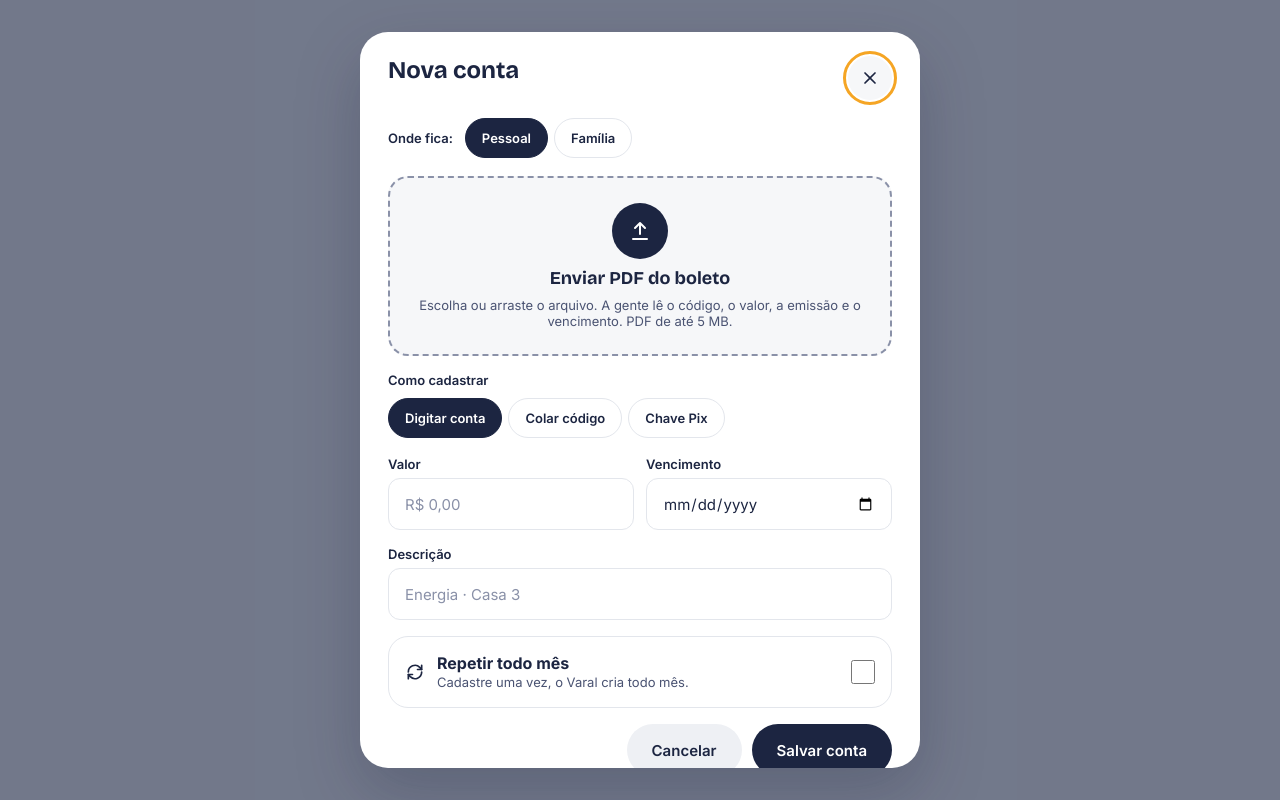
Test: q08-9: vencimento de outro mês conserva campos e não cria recorrência
In the field labelled "Descrição": (640, 594) top-left (405, 569), bottom-right (875, 619), type "Conta antiga"
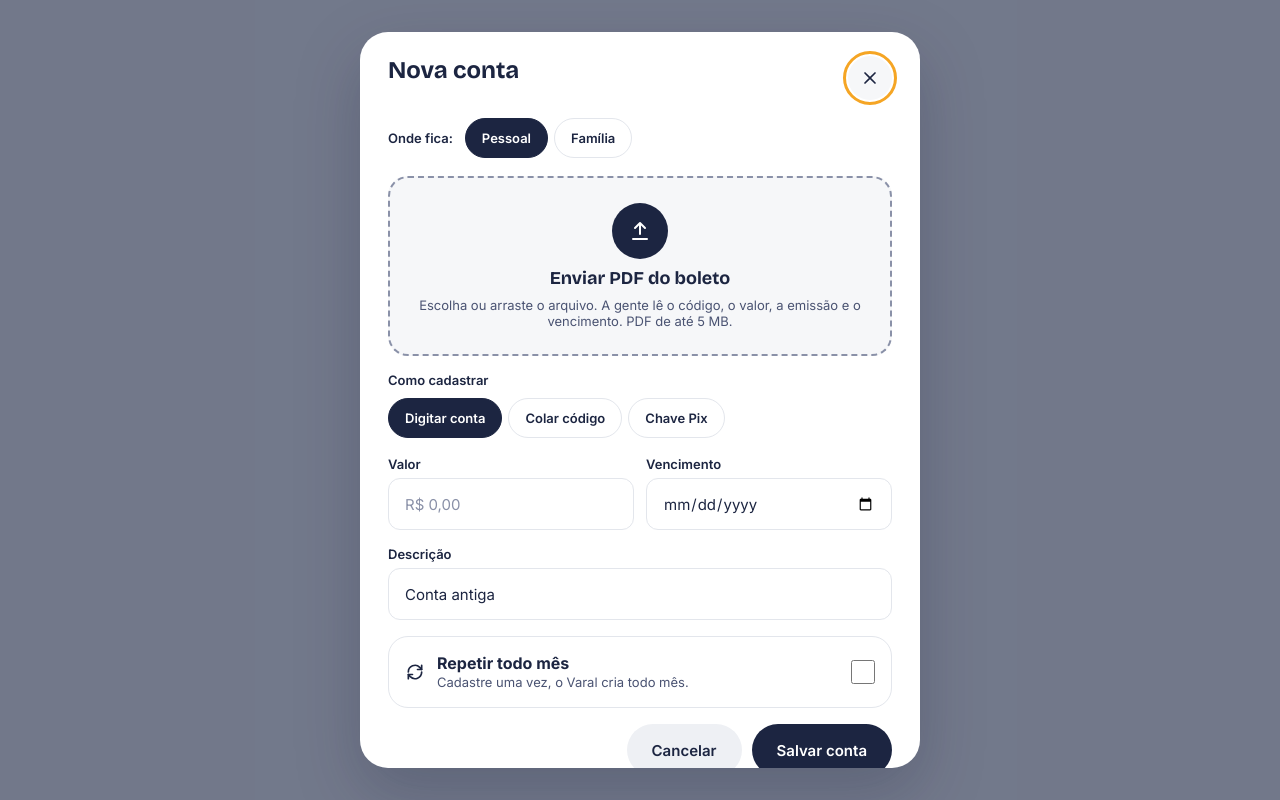
In the field labelled "Valor": (511, 504) top-left (405, 479), bottom-right (617, 529), type "42,00"
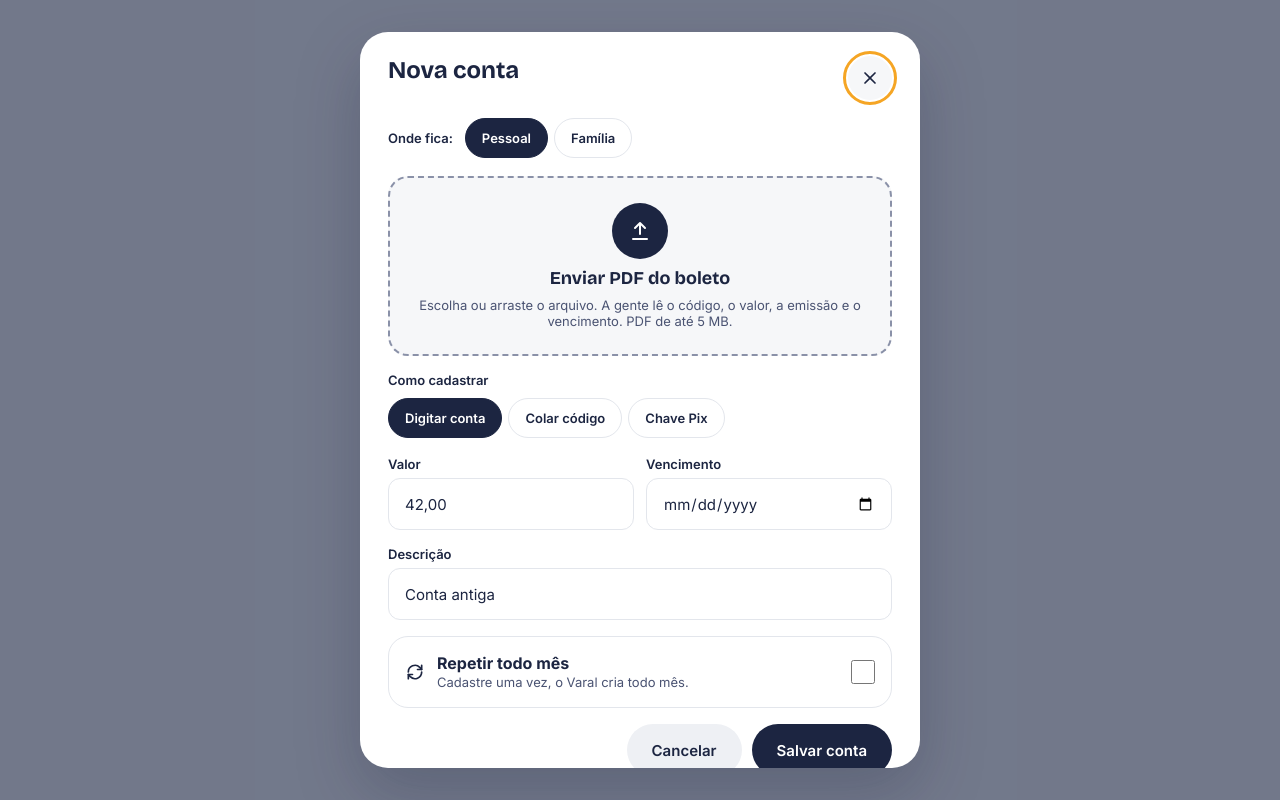
In the date field labelled "Vencimento": (769, 504) top-left (663, 479), bottom-right (875, 529), type "2020-01-14"
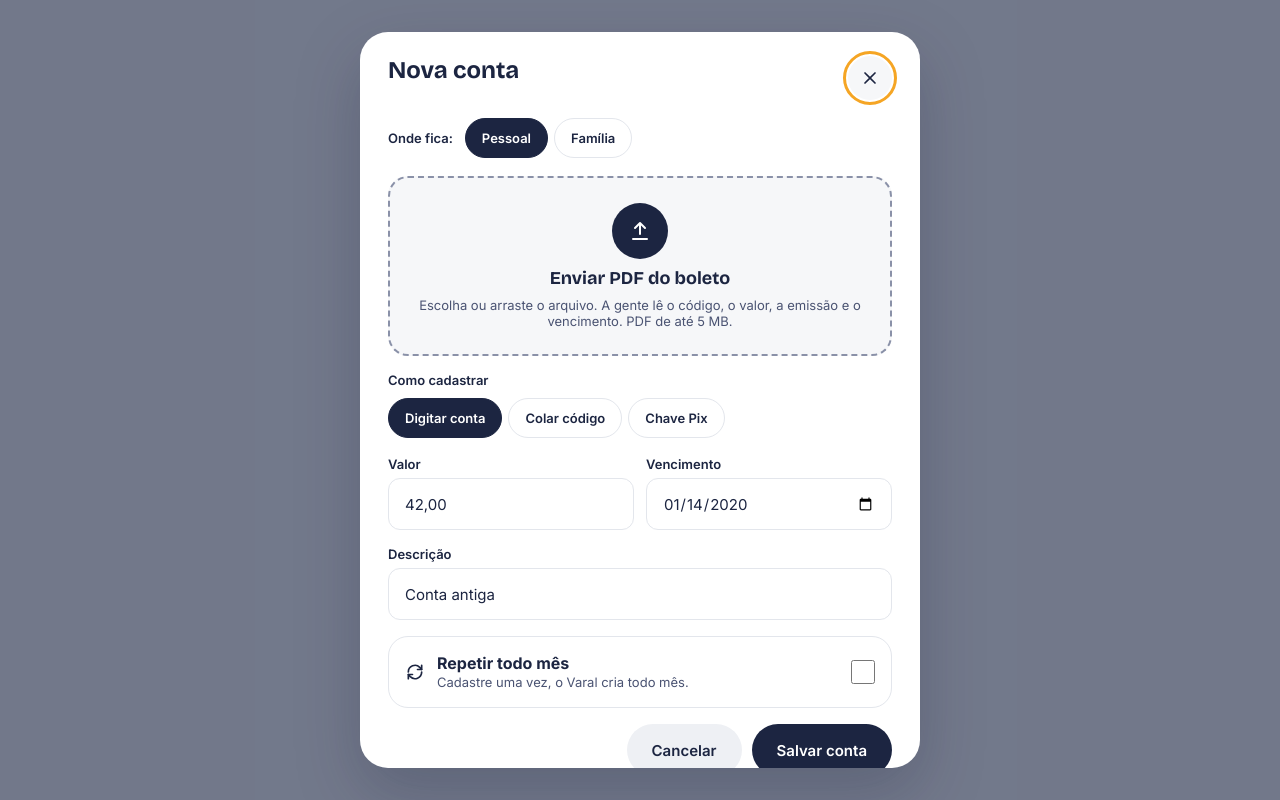
Click the checkbox labelled "Repetir todo mês Cadastre uma vez, o Varal cria todo mês.": (863, 672) top-left (851, 660), bottom-right (875, 684)
(page scrolled)
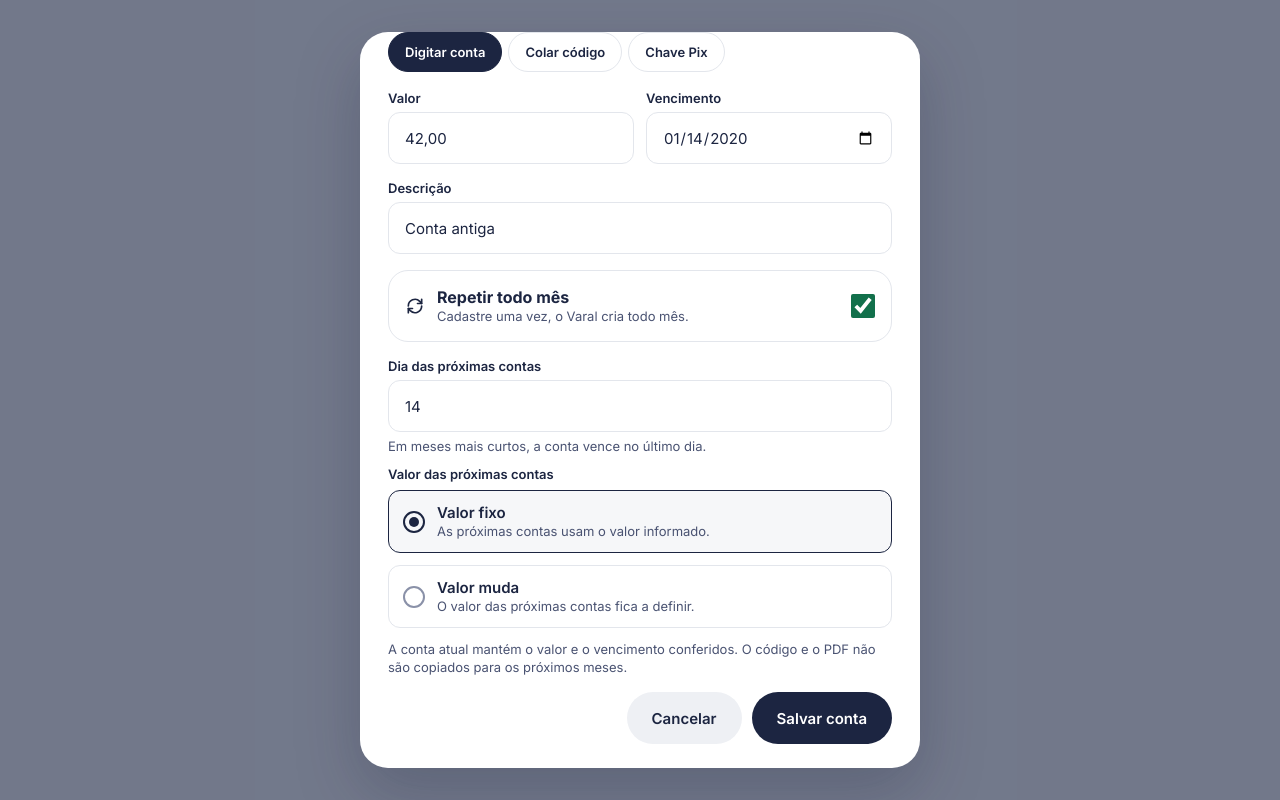
Click the button "Salvar conta": (822, 718) top-left (752, 692), bottom-right (892, 744)
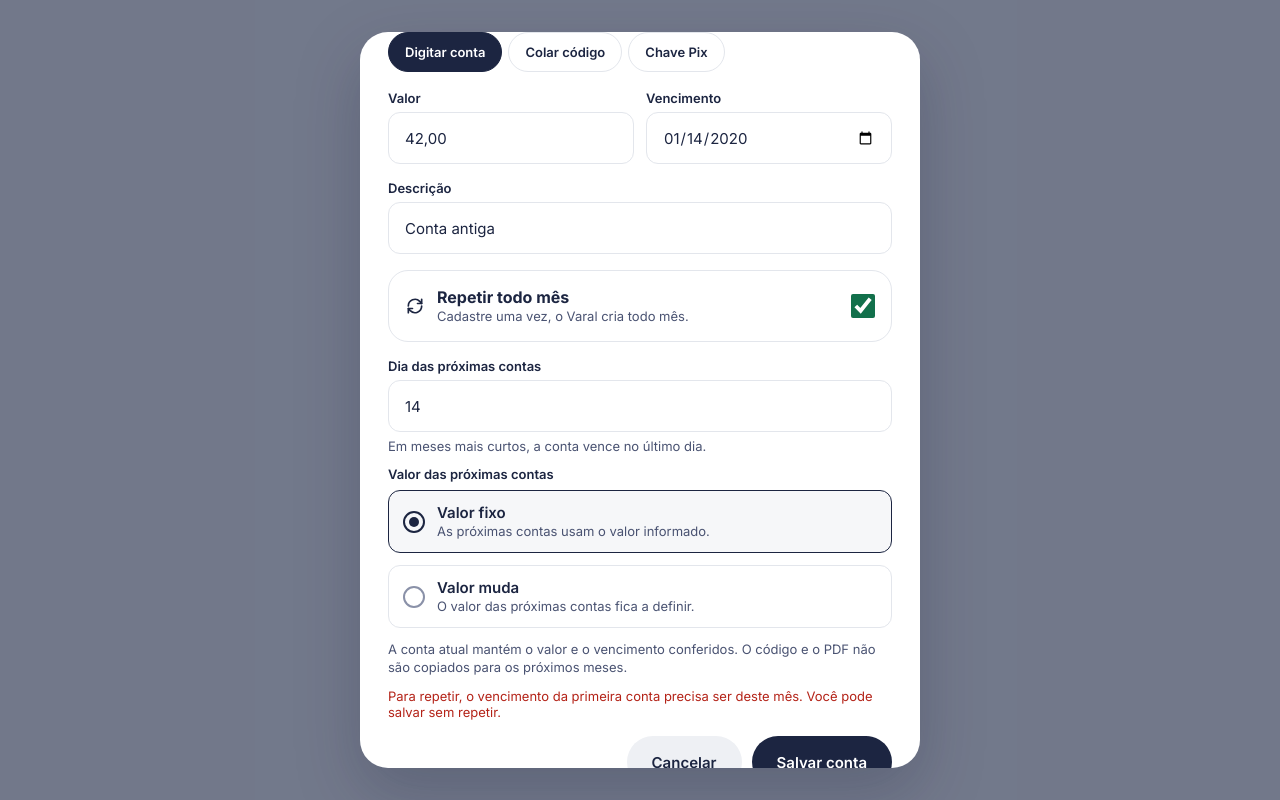
Expected: the message shows "vencimento da primeira conta precisa ser deste mês", top-left (388, 688), bottom-right (872, 720)
